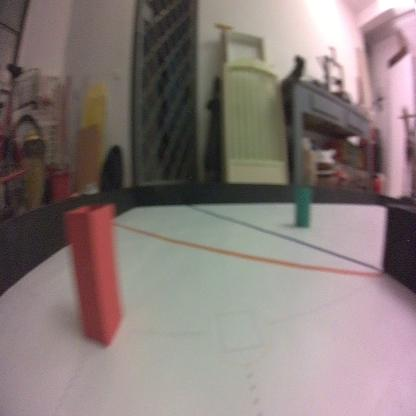green: (293, 187, 311, 230)
red: (63, 200, 124, 351)
